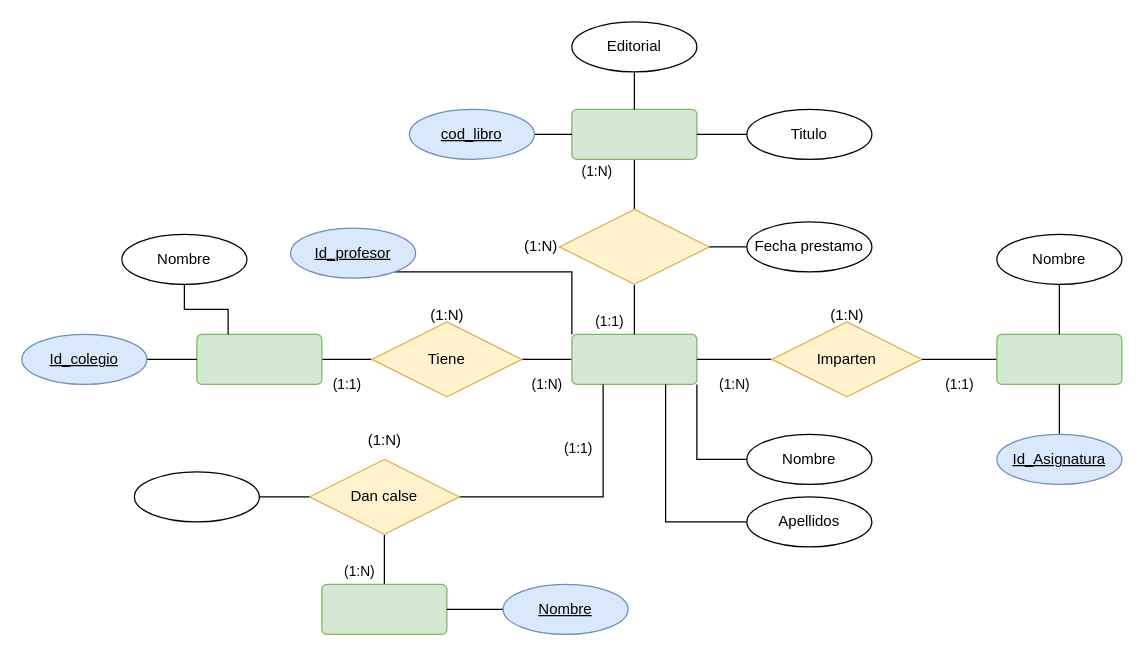
Some shapes in this 1144 by 656 pixel diagram are drawn without their labels. The centre of each missing label's shape, as x and y in pixels:
Asignaturas: [1059,358]
Aulas: [384,608]
Colegio: [259,358]
Curso: [196,496]
Libros: [634,133]
Profesores: [634,358]
son prestados a: [633,246]
